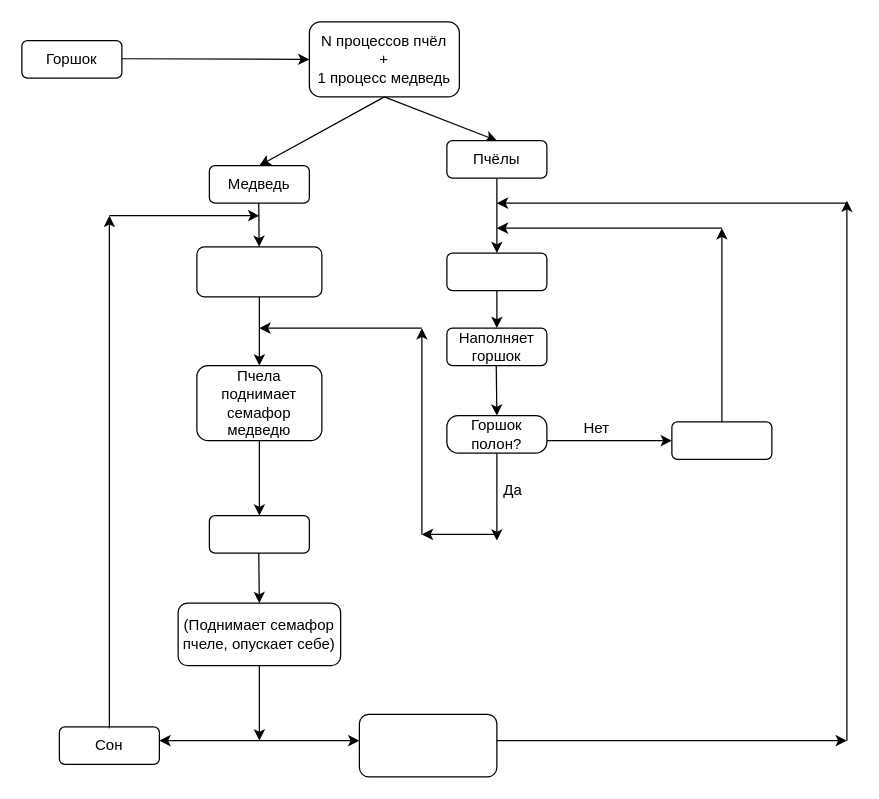
The diagram is 879 pixels wide and 799 high, and some of its shapes have lost their labels. The centre of each missing label's shape, as x and y in pixels:
"Медведь ест" goes at (258,533).
"Медведь поднимает семафор пчеле" goes at (427,745).
"Опускает себе семафор" goes at (259,271).
"Опускает семафор" goes at (496,271).
"Поднимает семафор" goes at (721,440).
